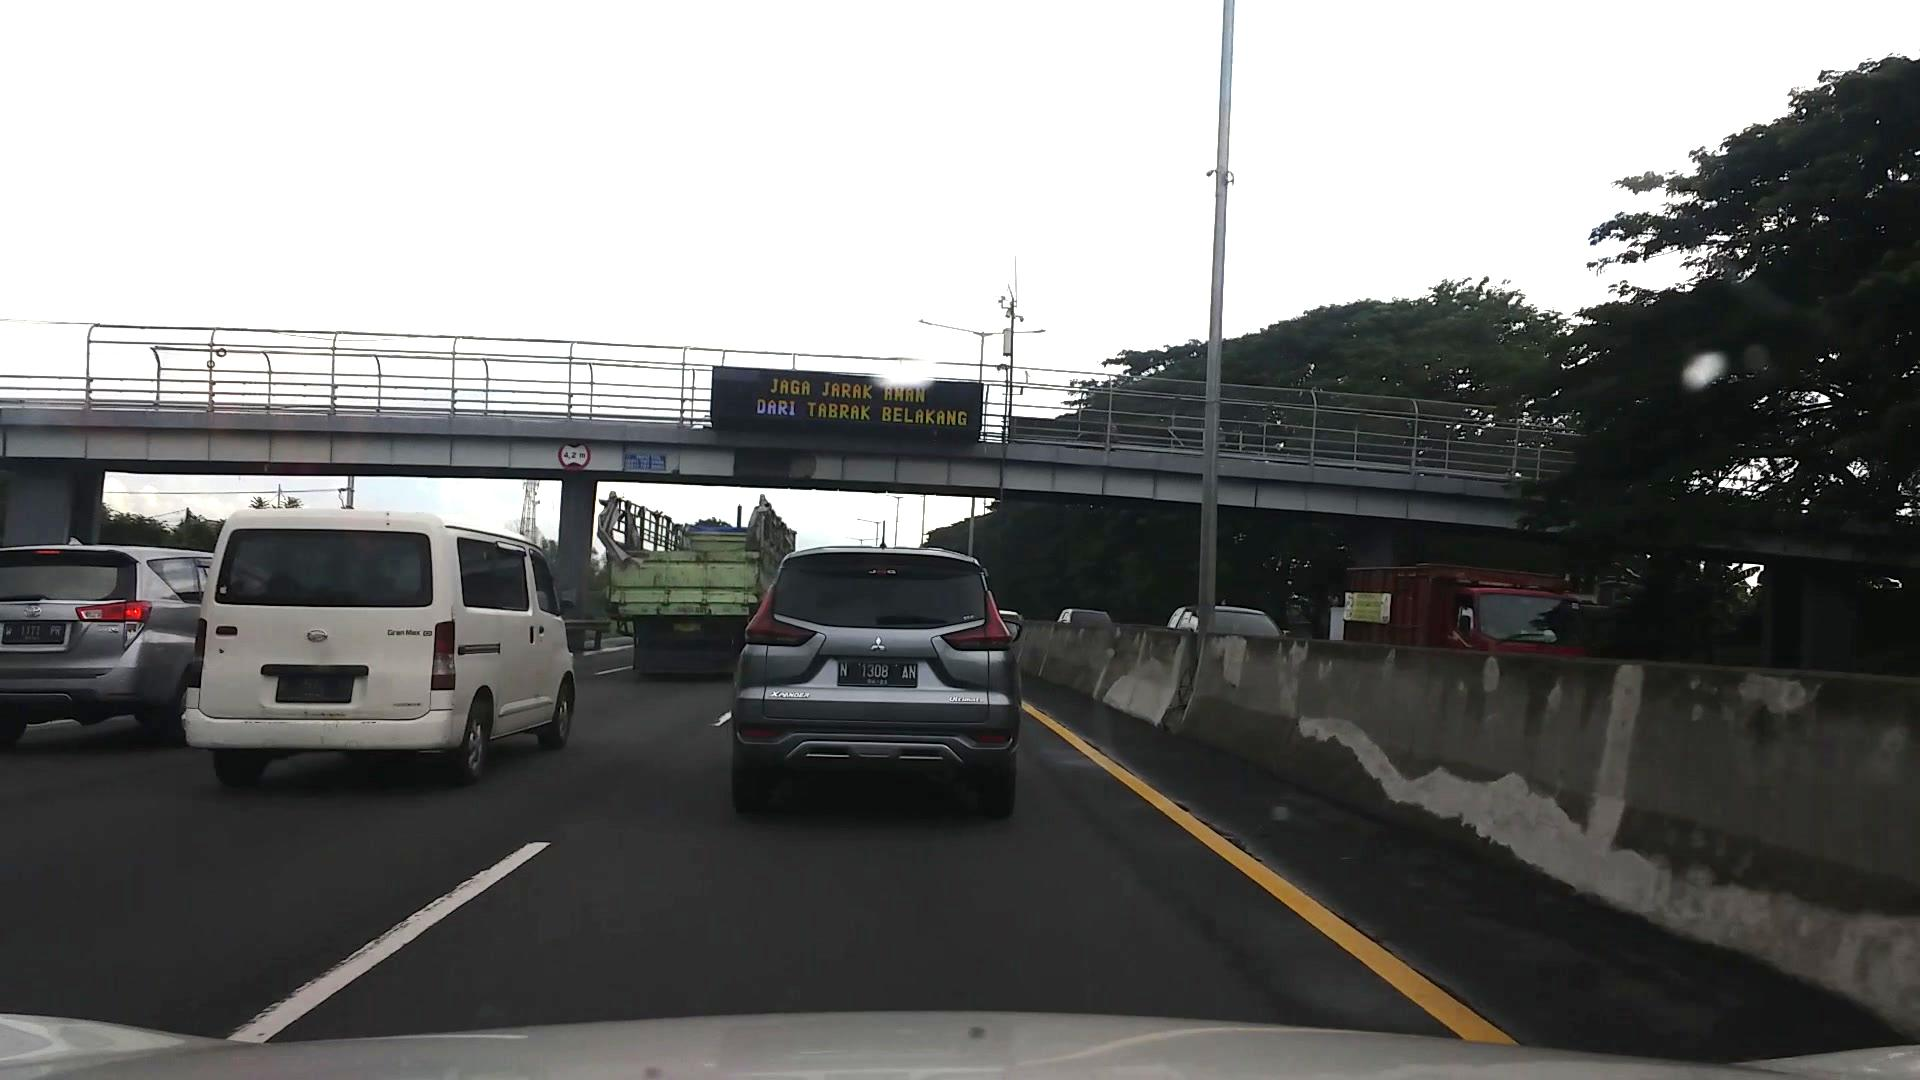plate_positive: (837, 661, 916, 688)
